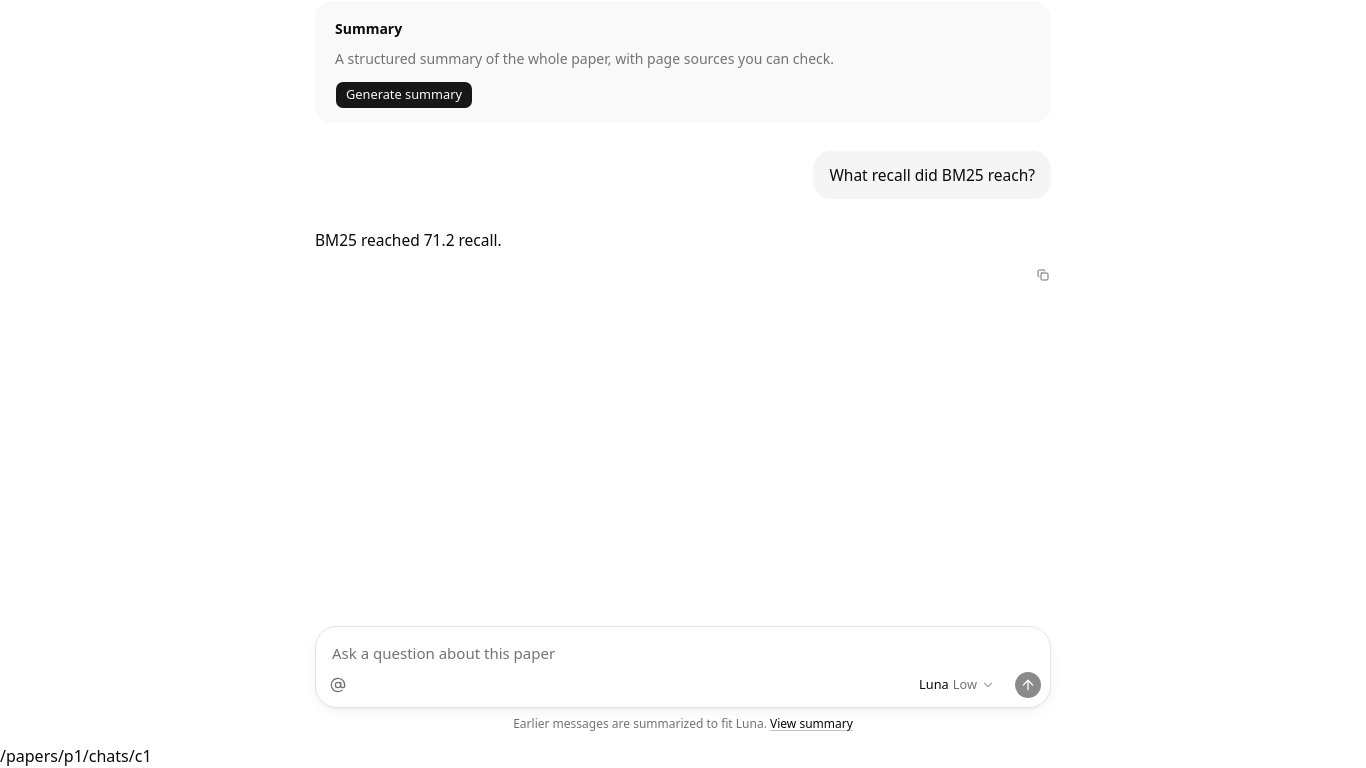
Test: Given a summarized conversation, When View summary is pressed, Then the footnote names the model and the summary reads as Markdown without chips
(page scrolled)
Check: the text "Earlier messages are summarized to fit Luna." is shown, box [513,715,767,732]
Click the button "View summary": (811, 724) [770,716,853,732]
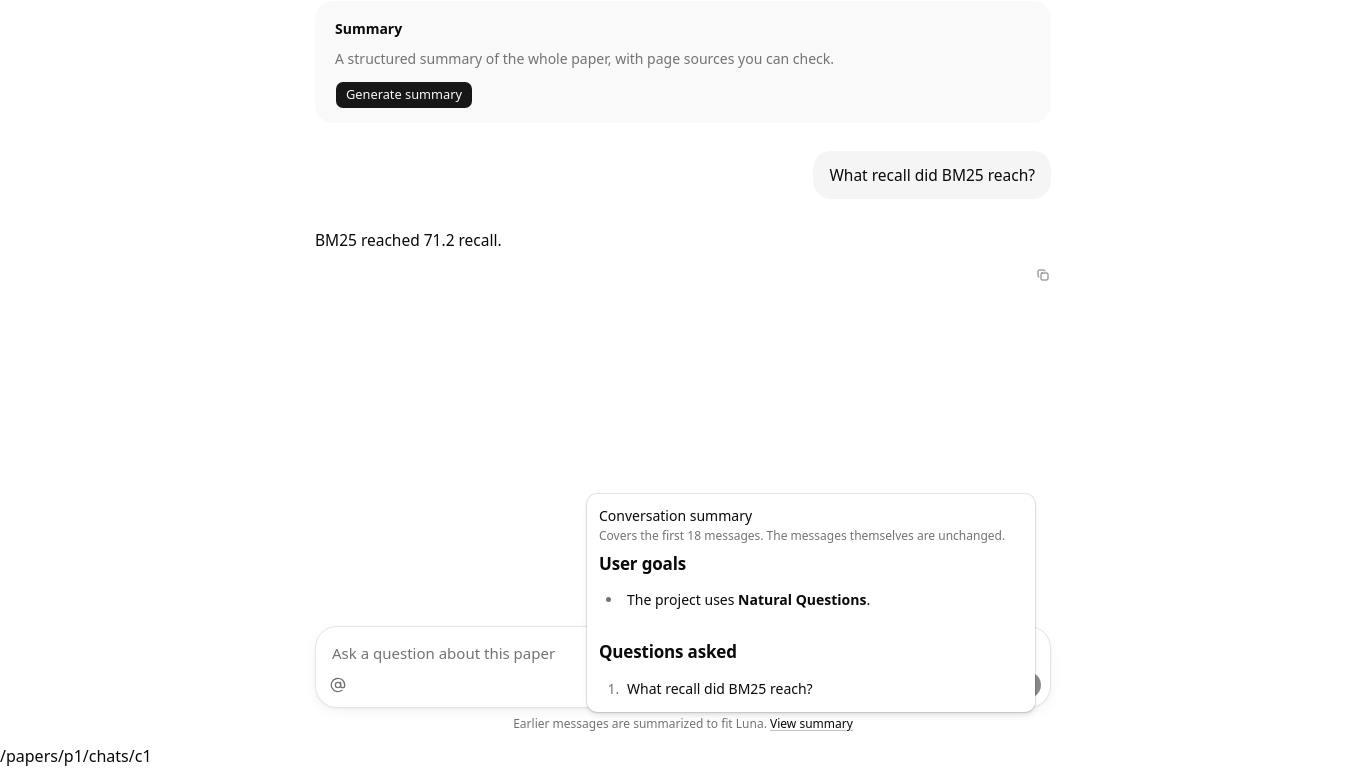
Check: the dialog "Conversation summary" does not show "[source:", box [587,494,1035,712]
Check: the heading "User goals" is shown, box [599,552,686,575]
Check: the list items read "The project uses Natural Questions.", "What recall did BM25 reach?", in this order, box [627,590,870,609]; [627,678,813,698]
